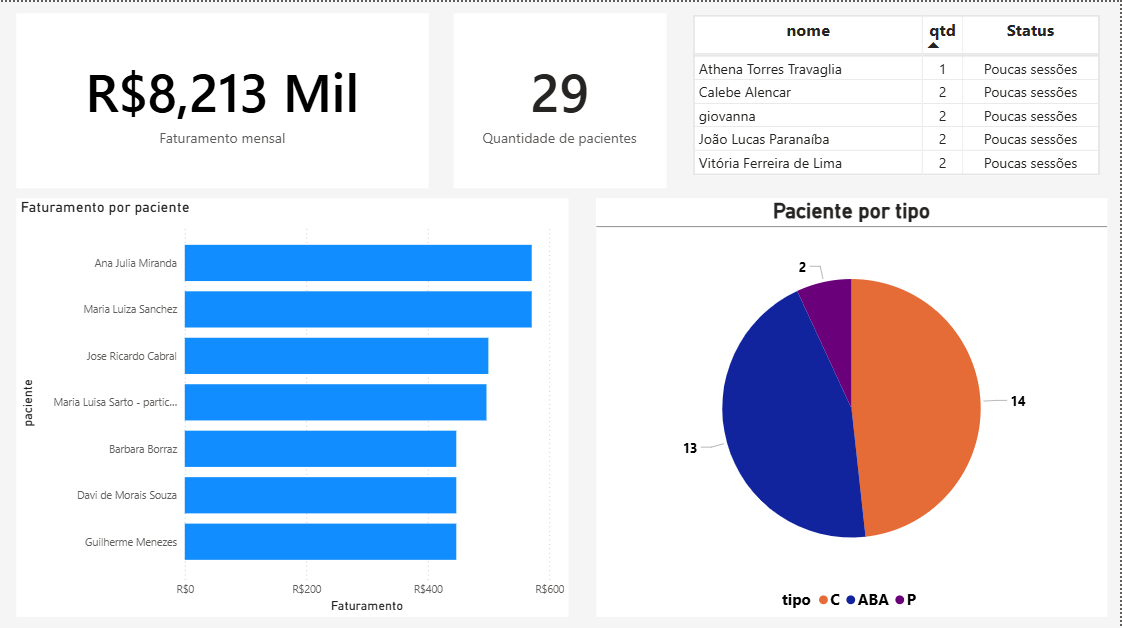

The dashboard page shown, as its layout file describes it:
{"tool":"powerbi","page":{"name":"Página 1","canvas":[1280,720],"ordinal":0},"visuals":[{"type":"cardVisual","fields":{"Data":["Página1.Faturamento"]},"box":[18.6,12.9,471.4,200],"z":0},{"type":"barChart","fields":{"Y":["Página1.Faturamento"],"Category":["Página1.nome"]},"box":[18.6,224.3,631.4,478.6],"z":1000},{"type":"pieChart","title":"Paciente por tipo","fields":{"Category":["Página1.tipo"],"Y":["CountNonNull(Página1.nome)"]},"box":[681,223.8,583.8,478.8],"z":2000},{"type":"cardVisual","fields":{"Data":["Count(Página1.nome)"]},"box":[518.6,12.9,242.9,200],"z":3000},{"type":"tableEx","fields":{"Values":["Página1.nome","Sum(Página1.qtd)","Página1.Status"]},"box":[785.7,10,480,195.7],"z":4000}]}

Visuals, with their boxes in screenshot pixels (x1, y1, x2, y2), scaled from the page's 1280x720 canvas onto the 1122x628 screenshot:
cardVisual - Página1.Faturamento: (16,11,430,186)
barChart - Página1.Faturamento x Página1.nome: (16,196,570,613)
"Paciente por tipo" pieChart: (597,195,1109,613)
cardVisual - Count(Página1.nome): (455,11,668,186)
tableEx - Página1.nome x Sum(Página1.qtd): (689,9,1109,179)
